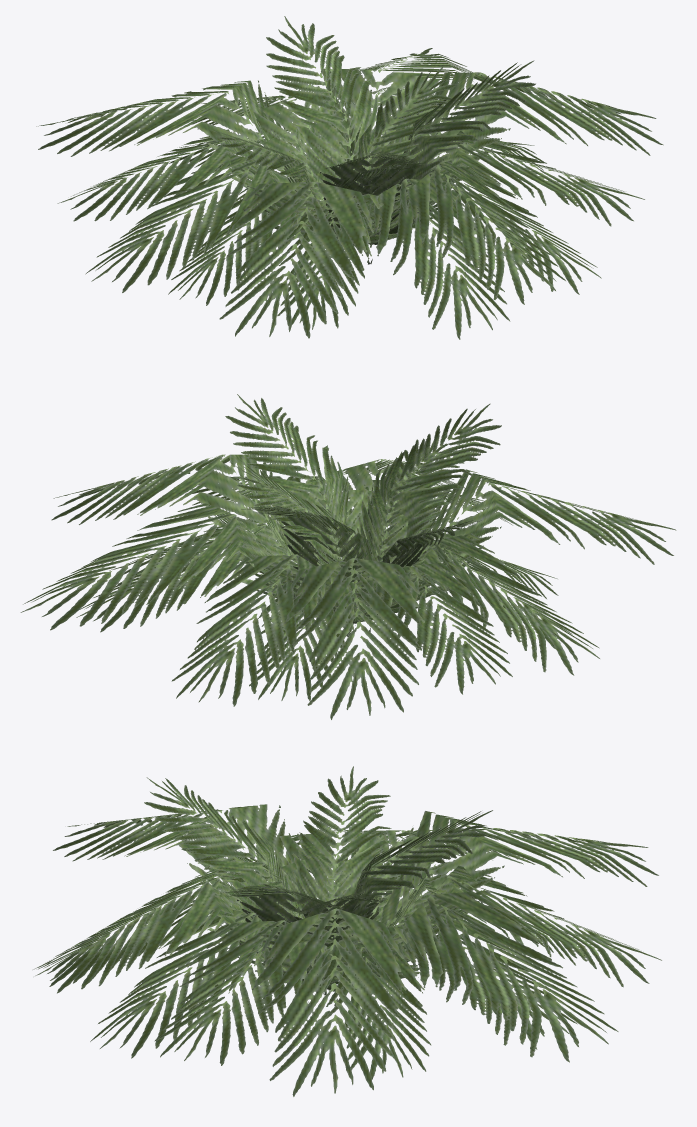
Rendered from mbushtro_0.obj.
3 renders of one model, top to bottom at view 1: azimuth 30°, elevation 25°; view 2: azimuth 150°, elevation 25°; view 3: azimuth 270°, elevation 25°, orthographic. The views are drawn at different scales.
Visible parts, largest first — view 1: mbushtro_0; view 2: mbushtro_0; view 3: mbushtro_0.
Part boxes in pixels (x1,y1,x2,y2): mbushtro_0: [36, 16, 663, 339]; mbushtro_0: [20, 394, 676, 719]; mbushtro_0: [33, 766, 661, 1096].
Bounding box in the file's own units: 7.07 × 2.42 × 6.74.
